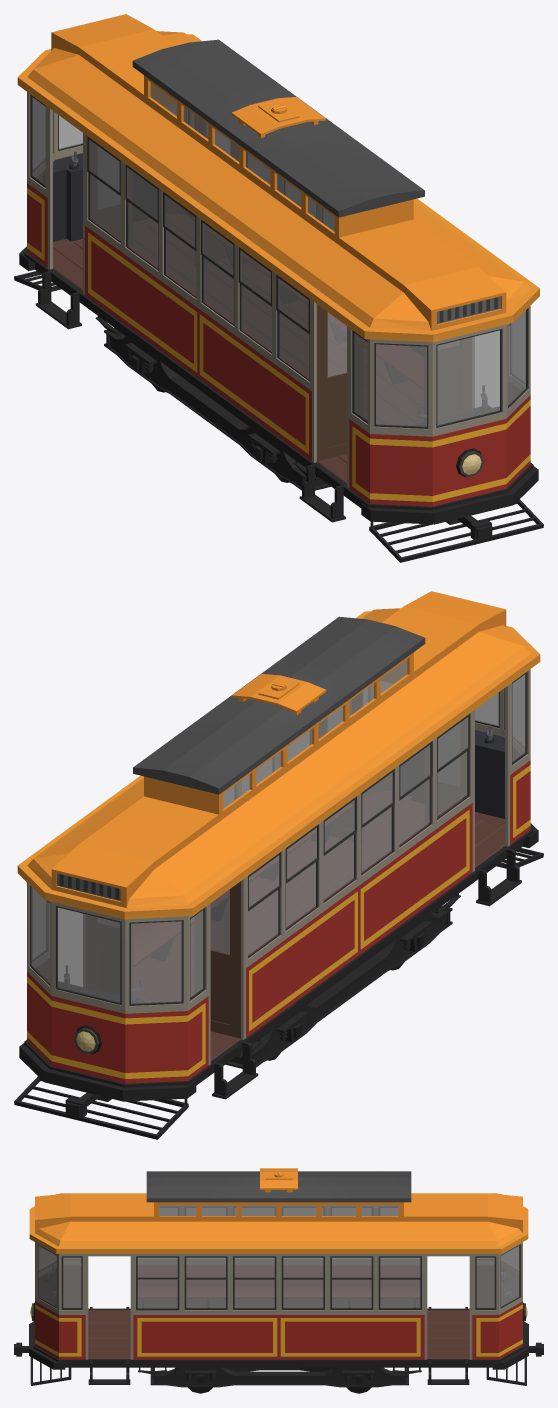
Rendered from Tram.fbx.
3 renders of one model, top to bottom at view 1: azimuth 30°, elevation 25°; view 2: azimuth 150°, elevation 25°; view 3: azimuth 270°, elevation 25°, orthographic. The views are drawn at different scales.
Visible parts, largest first — view 1: Tram; view 2: Tram; view 3: Tram.
Part boxes in pixels (left/top/right/bottom): Tram: left=14, top=14, right=543, bottom=562; Tram: left=14, top=591, right=543, bottom=1139; Tram: left=14, top=1168, right=543, bottom=1393.
Size of the model in its own units: 166 by 263 by 624.
